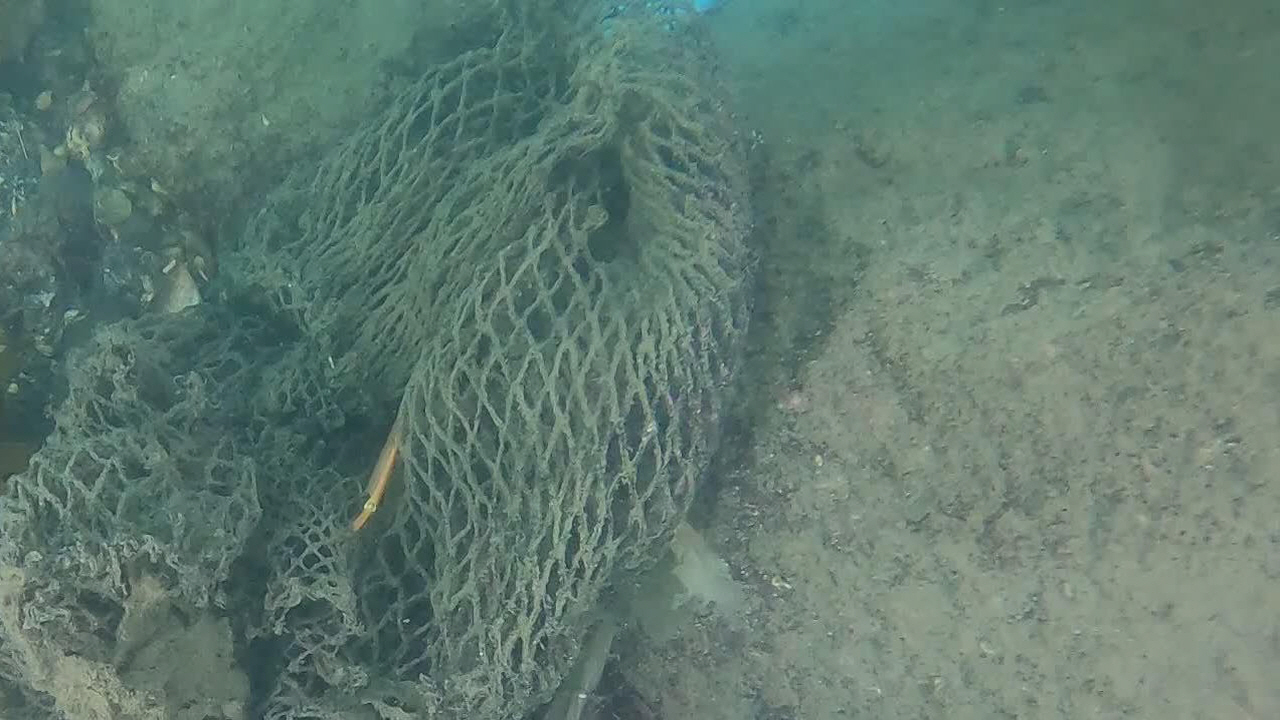fish net: (1, 0, 750, 720)
